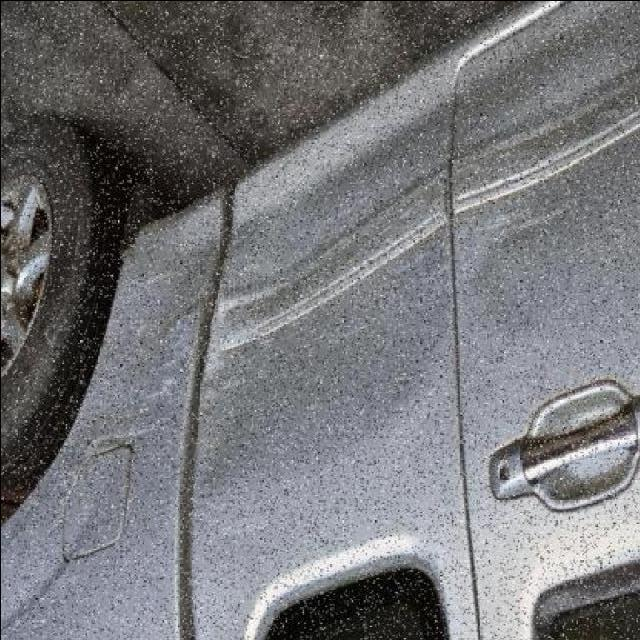doorouter-dent: (188, 85, 451, 640), (451, 23, 639, 640)
quaterpanel-dent: (5, 225, 198, 640)
